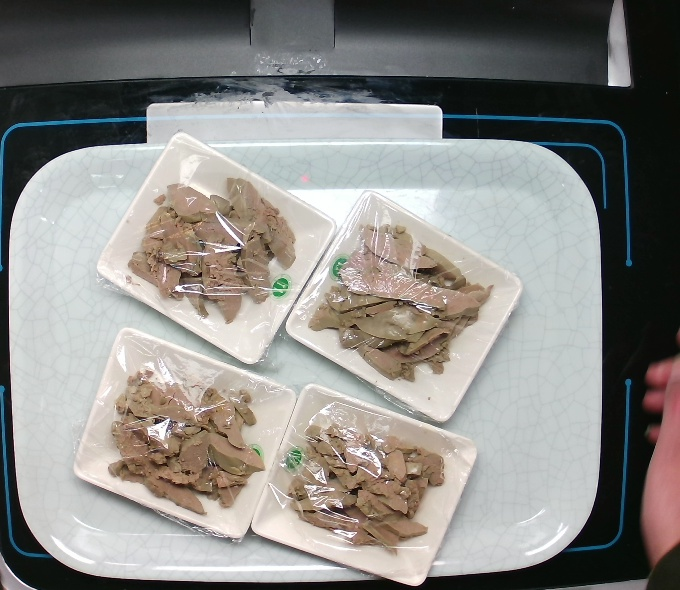wcq-EGan: (311, 221, 500, 380), (126, 173, 299, 325), (108, 369, 266, 519), (286, 416, 450, 557)
